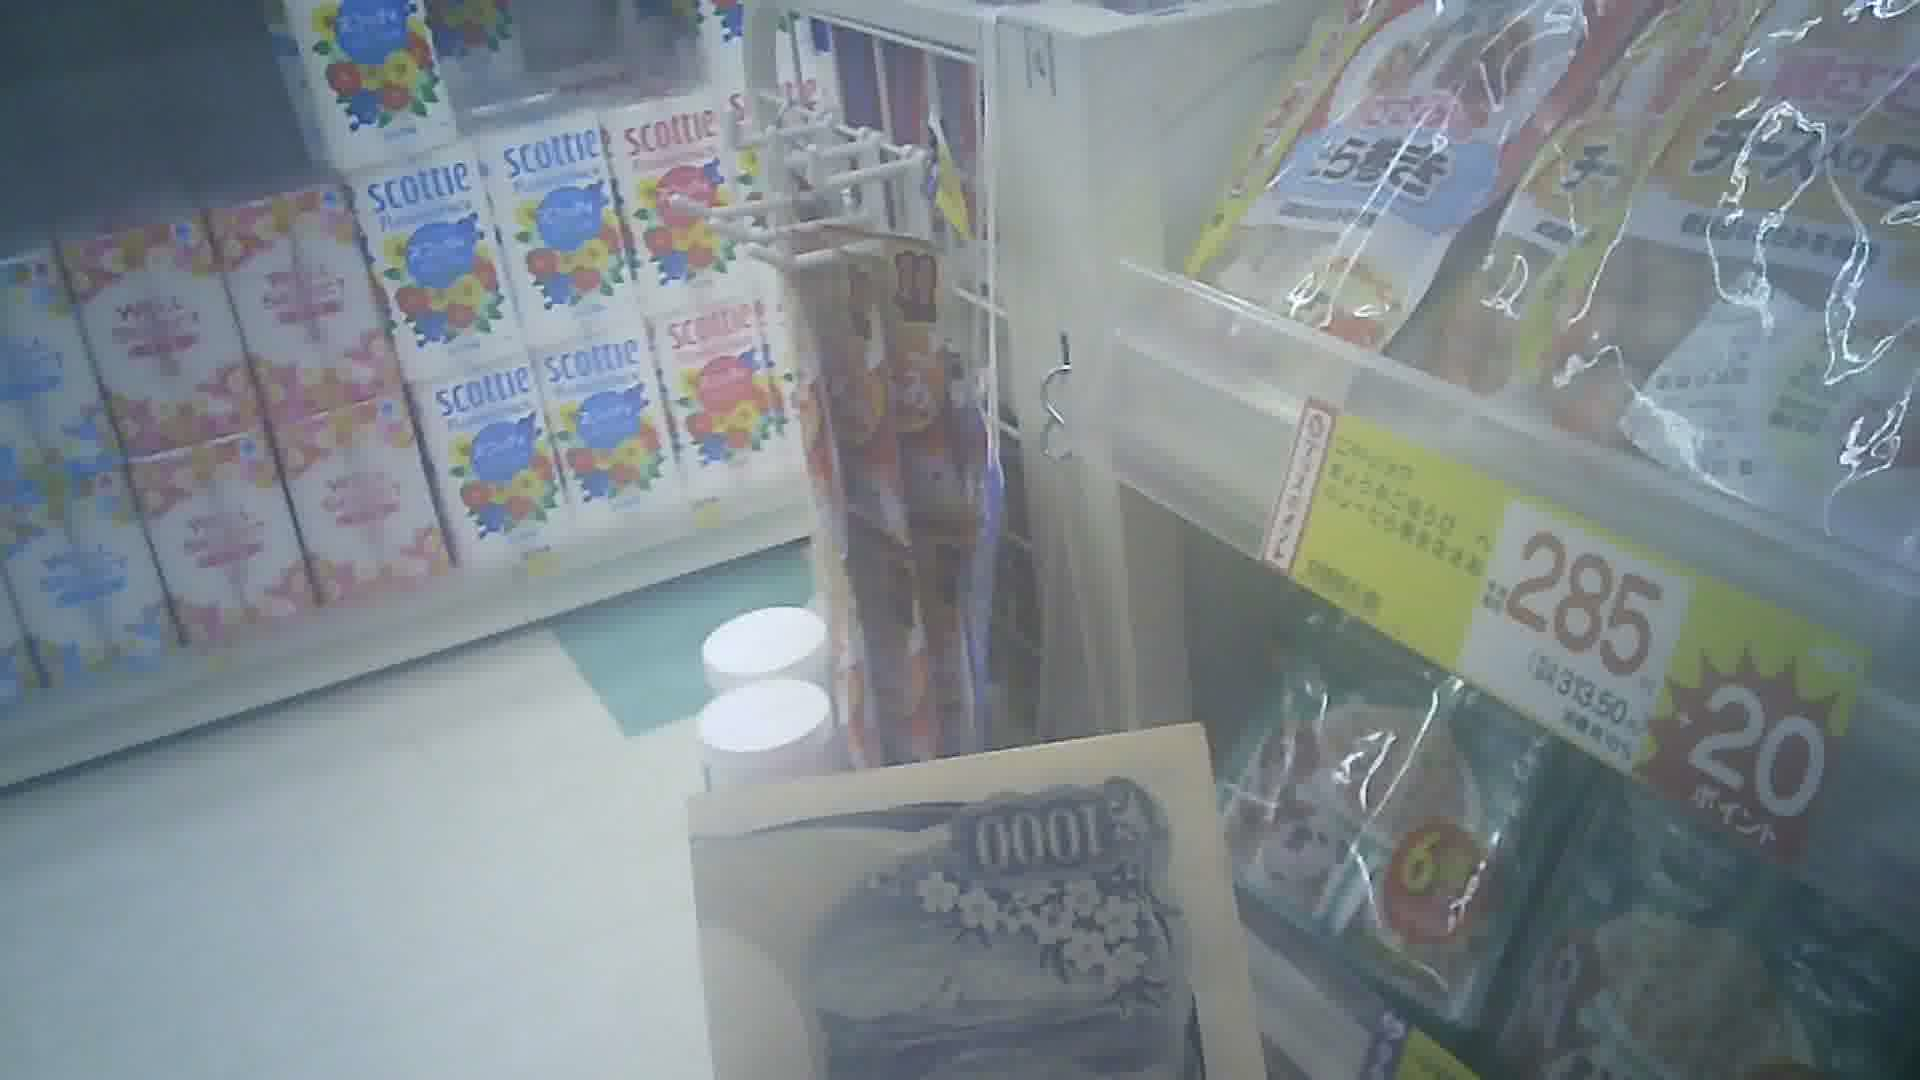1,000 Yen: (691, 728, 1283, 1072)
